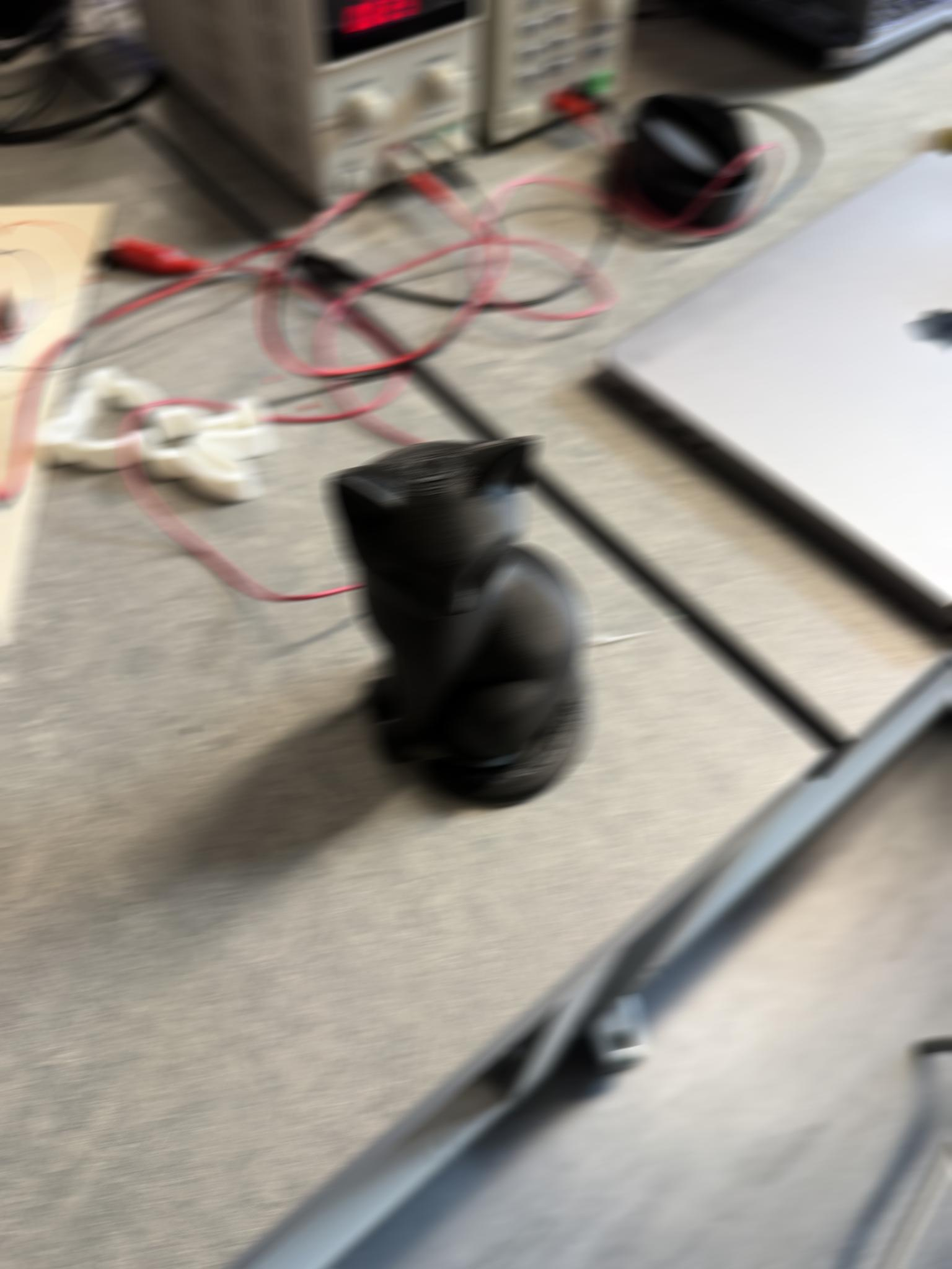cat: (327, 437, 592, 804)
